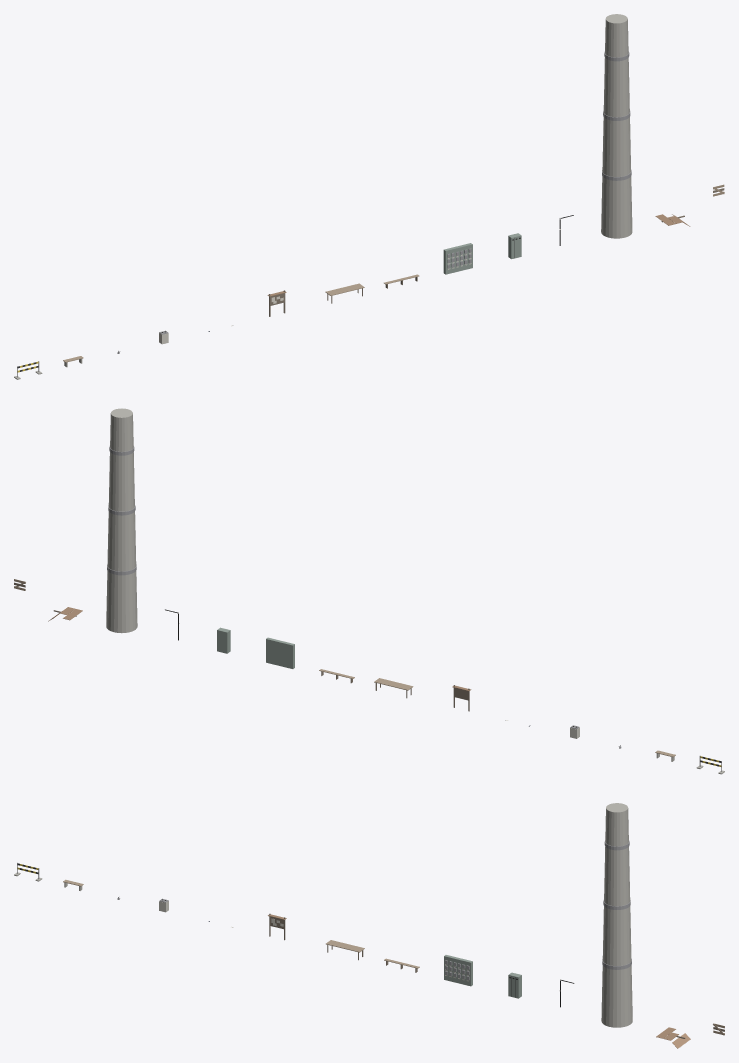
Rendered from east_props.glb.
3 renders of one model, top to bottom at view 1: azimuth 30°, elevation 25°; view 2: azimuth 150°, elevation 25°; view 3: azimuth 330°, elevation 25°, orthographic.
Parts seen in each view (by area): view 1: Chimney, Switchboard; view 2: Chimney, Switchboard; view 3: Chimney, Switchboard.
Boxes of the visible parts, x1,y1,x2,y2 form: Chimney: [601, 14, 632, 238]; Switchboard: [443, 243, 472, 274]; Chimney: [106, 408, 137, 633]; Switchboard: [266, 637, 294, 668]; Chimney: [601, 803, 632, 1027]; Switchboard: [444, 955, 472, 986].
Size of the model in its own units: 62.63 by 18.56 by 2.4.
